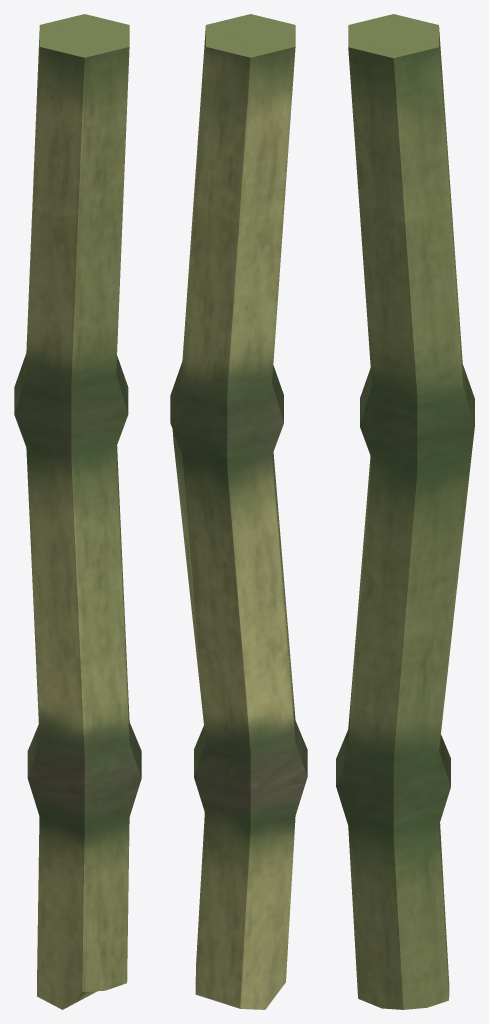
The model's file is sugarcane_short.fbx.
The picture shows the model from 3 angles, left to right: view 1: azimuth 90°, elevation 25°; view 2: azimuth 150°, elevation 25°; view 3: azimuth 330°, elevation 25°; orthographic projection.
Visible parts, largest first — view 1: CandyCane; view 2: CandyCane; view 3: CandyCane.
Part boxes in pixels (x1=…): CandyCane: x1=14, y1=14, x2=141, y2=1009; CandyCane: x1=170, y1=14, x2=307, y2=1009; CandyCane: x1=336, y1=14, x2=474, y2=1009.
Size of the model in its own units: 8.04 by 56.49 by 6.77.
